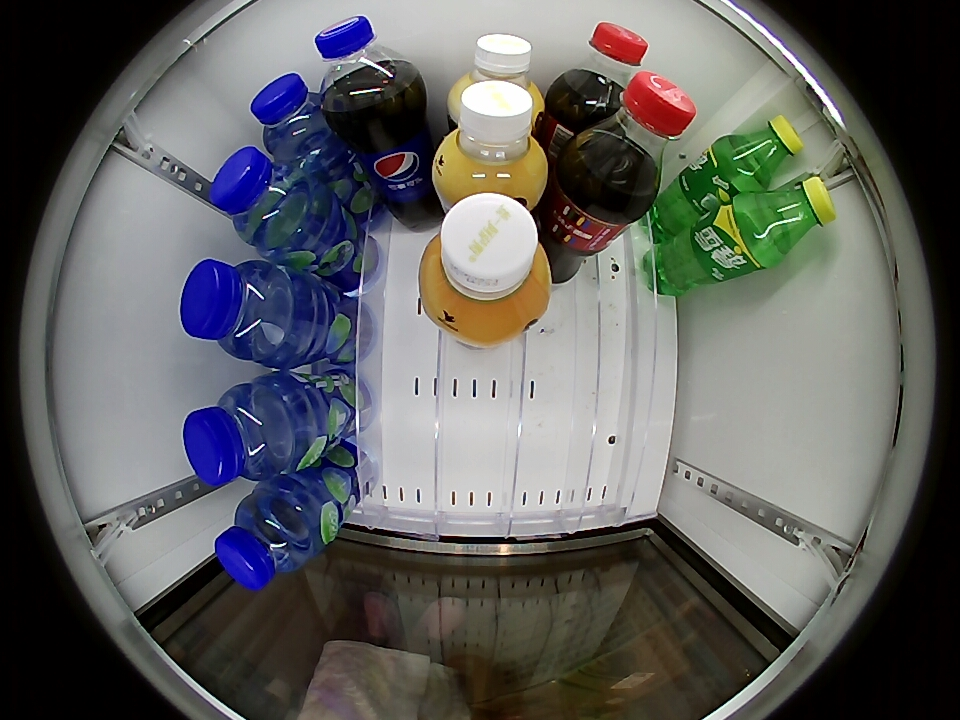asamu: (419, 192, 551, 343), (434, 80, 548, 205), (447, 34, 542, 116)
baishikele-2: (314, 14, 417, 117)
kele-b: (571, 72, 697, 200), (560, 22, 650, 113)
maidong: (180, 258, 303, 362), (183, 381, 303, 485), (208, 147, 321, 251), (215, 487, 320, 590), (250, 73, 336, 162)
xuebi-b: (752, 174, 837, 256), (726, 115, 803, 185)
